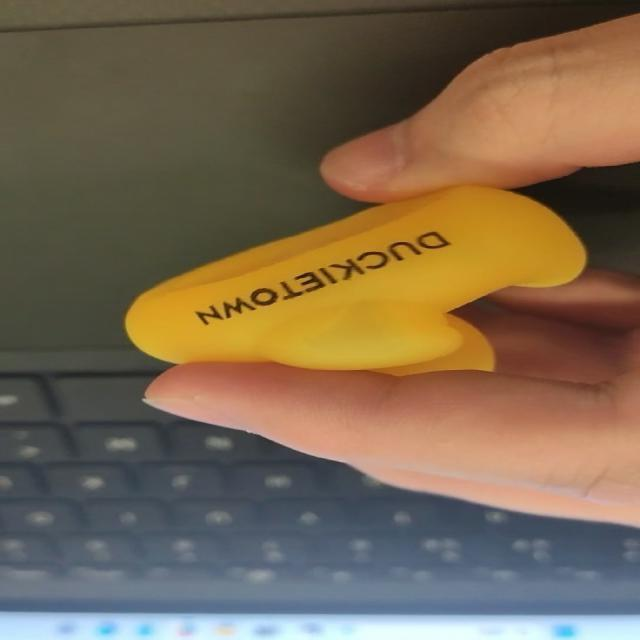rubber-duck: (124, 185, 584, 373)
